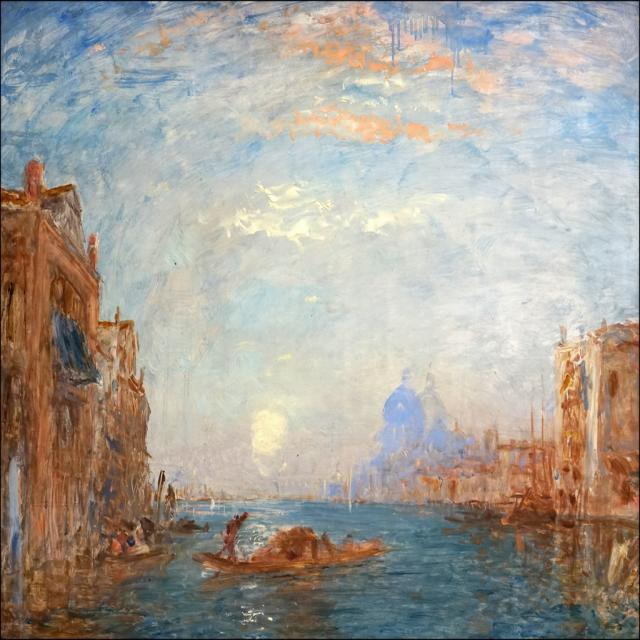Boat: (197, 523, 375, 567)
